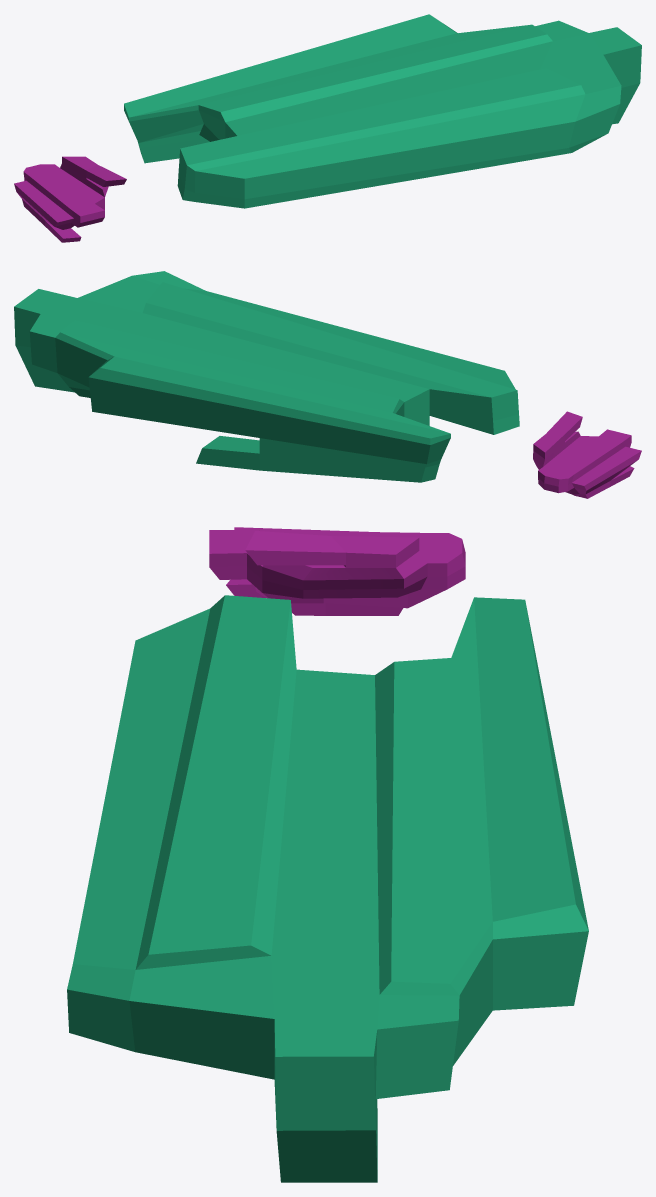
File: reworks.fbx
The picture shows the model from 3 angles, top to bottom: view 1: azimuth 30°, elevation 25°; view 2: azimuth 150°, elevation 25°; view 3: azimuth 270°, elevation 25°; orthographic projection. The views are drawn at different scales.
Parts seen in each view (by area): view 1: Bridge_rework_2, Platform_Rework; view 2: Bridge_rework_2, Platform_Rework; view 3: Bridge_rework_2, Platform_Rework.
Boxes of the visible parts, box(x1,y1,x2,y2) form: Bridge_rework_2: box(124, 14, 641, 208); Platform_Rework: box(14, 156, 126, 242); Bridge_rework_2: box(14, 271, 519, 482); Platform_Rework: box(533, 411, 641, 498); Bridge_rework_2: box(67, 595, 588, 1182); Platform_Rework: box(209, 527, 465, 615).
Bounding box in the file's own units: 3871 × 517 × 1475.
